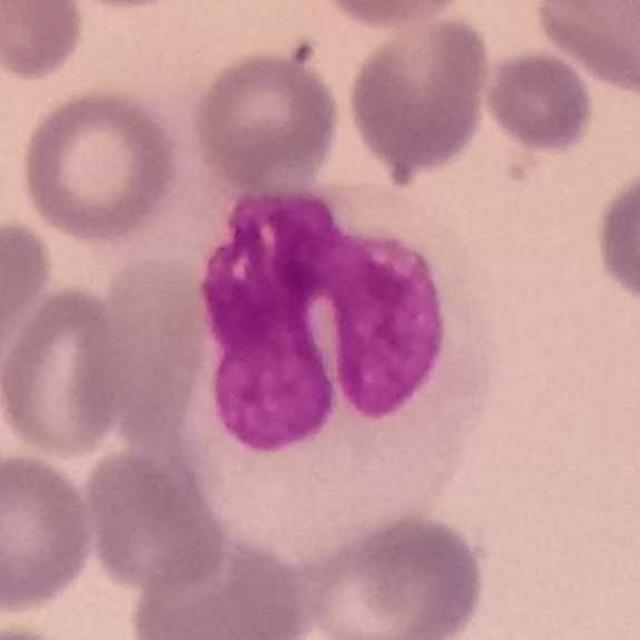Monocyte: (178, 185, 500, 566)
RBC: (14, 85, 186, 246), (343, 10, 494, 183), (297, 507, 490, 640), (0, 280, 130, 461), (78, 443, 230, 597), (188, 44, 345, 188), (123, 530, 316, 640), (0, 448, 99, 616), (480, 46, 598, 156), (530, 0, 640, 100), (0, 210, 58, 385), (590, 159, 640, 314), (0, 0, 89, 86), (310, 0, 477, 30), (41, 0, 201, 13)
